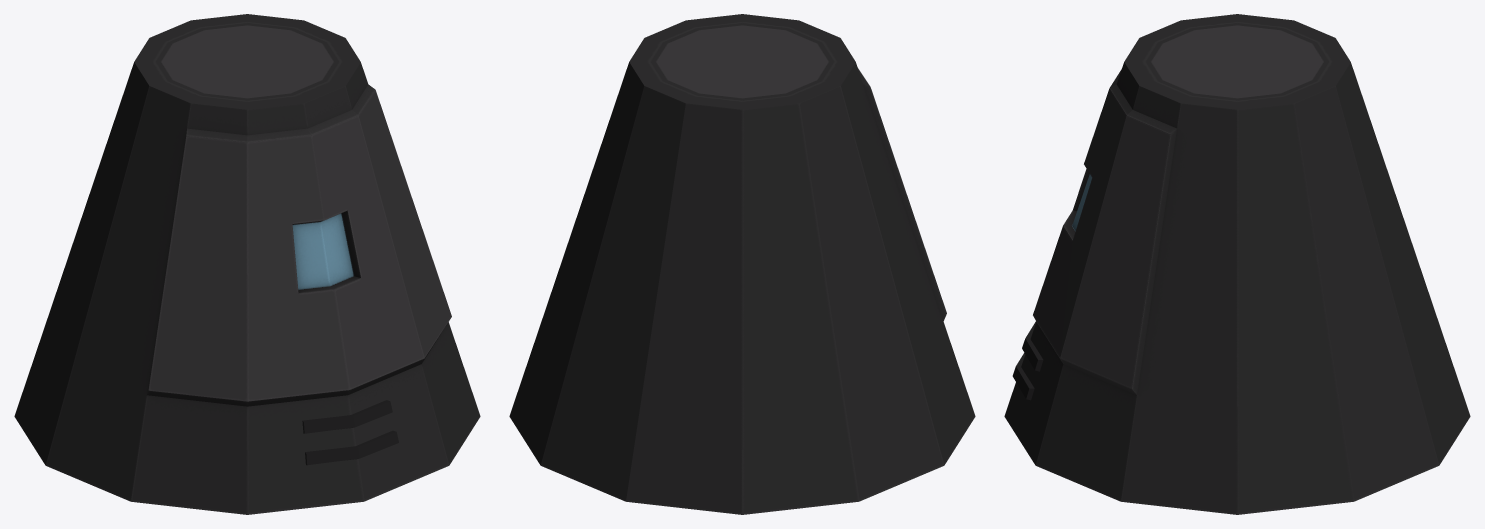
File: Mk1CommandPod.obj
The picture shows the model from 3 angles, left to right: view 1: azimuth 30°, elevation 25°; view 2: azimuth 150°, elevation 25°; view 3: azimuth 270°, elevation 25°; orthographic projection.
Parts seen in each view (by area): view 1: Mk1CommandPod_mesh; view 2: Mk1CommandPod_mesh; view 3: Mk1CommandPod_mesh.
Boxes of the visible parts, x1,y1,x2,y2 form: Mk1CommandPod_mesh: [14, 14, 480, 514]; Mk1CommandPod_mesh: [509, 14, 975, 514]; Mk1CommandPod_mesh: [1004, 14, 1470, 514].
Bounding box in the file's own units: 4.2 × 3.77 × 4.2.
